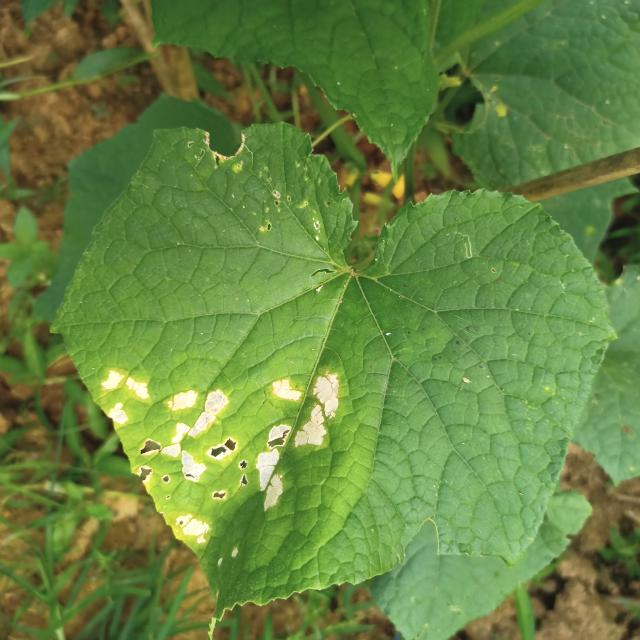disease_cucumber: (84, 358, 352, 561)
